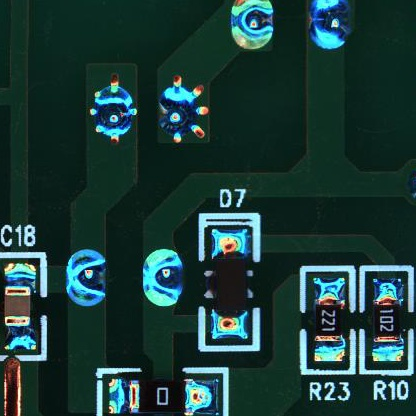spot: (91, 74, 138, 144), (160, 75, 207, 144), (143, 247, 185, 313), (64, 247, 108, 307), (229, 1, 274, 52), (307, 1, 352, 51)
